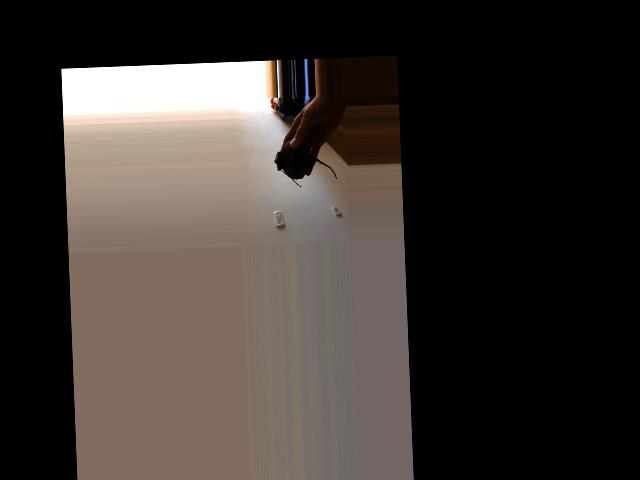beet: (273, 138, 337, 188)
